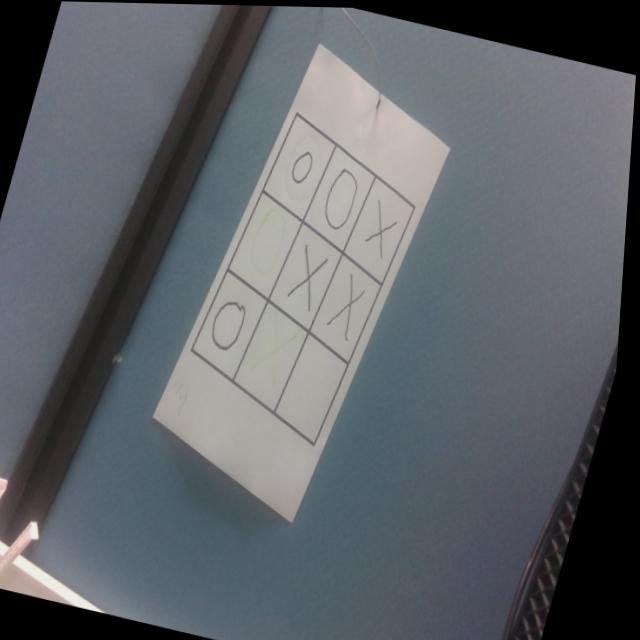null: (275, 329, 358, 446)
o: (226, 187, 309, 300), (321, 163, 365, 229), (211, 293, 254, 352), (289, 145, 319, 185)
table: (178, 101, 435, 457)
x: (287, 241, 335, 308), (255, 318, 301, 383), (329, 272, 374, 336), (359, 200, 403, 260)
